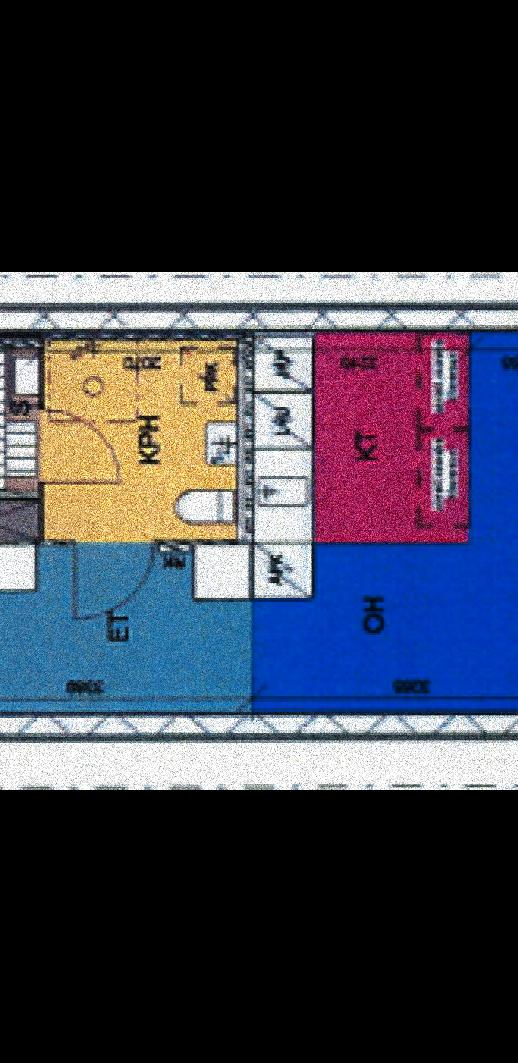door: (63, 538, 156, 628), (40, 407, 126, 490)
zone: (255, 334, 518, 708), (0, 544, 248, 719), (41, 342, 240, 540), (318, 329, 470, 540), (0, 343, 43, 499)
